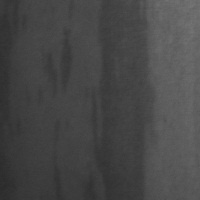inclusion: (90, 2, 162, 198), (0, 1, 26, 153), (51, 3, 80, 101), (46, 115, 70, 200)
